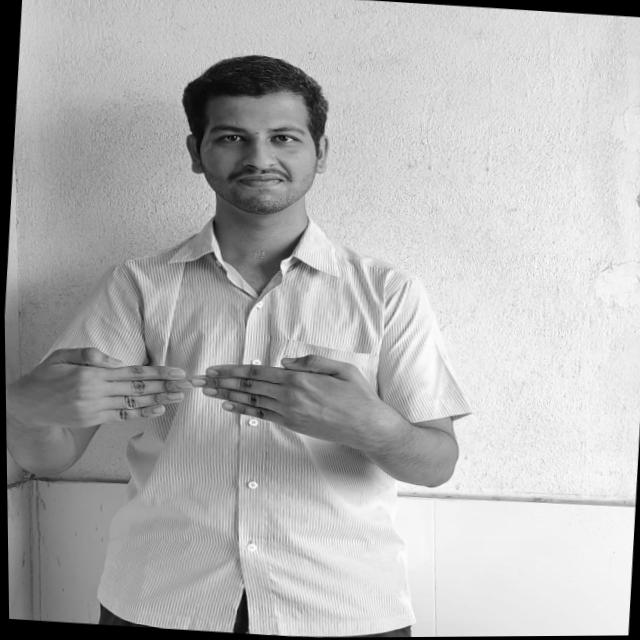Night: (4, 331, 391, 456)
